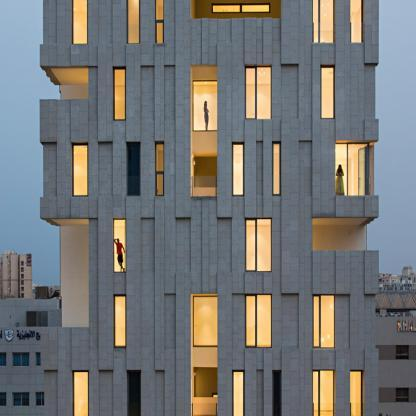Balcony: (191, 18, 281, 44), (313, 250, 379, 274), (40, 100, 88, 126), (336, 174, 379, 195), (191, 177, 217, 197), (313, 23, 334, 43), (191, 403, 217, 416), (313, 402, 335, 415), (351, 23, 364, 43), (350, 403, 363, 415)
Building Outline: (0, 0, 379, 416)
Deco: (1, 330, 41, 341)
Facade: (1, 2, 380, 415)
Floor Slab: (41, 120, 379, 143), (41, 198, 379, 218), (41, 45, 379, 64), (58, 351, 378, 369), (90, 274, 378, 292)
Window: (335, 143, 369, 195), (246, 219, 272, 272), (246, 295, 272, 348), (245, 67, 271, 119), (193, 297, 218, 347), (193, 81, 217, 131), (313, 295, 334, 348), (313, 371, 334, 415), (313, 1, 334, 42), (193, 366, 218, 397), (73, 145, 88, 196), (72, 0, 88, 43), (321, 67, 334, 119), (73, 372, 88, 416), (128, 145, 140, 197), (114, 220, 126, 272), (232, 144, 244, 196), (114, 296, 126, 347), (115, 69, 126, 120), (127, 0, 140, 43), (350, 371, 362, 416), (128, 372, 140, 416), (212, 4, 270, 13), (350, 0, 362, 42), (233, 372, 244, 416), (272, 142, 281, 195), (156, 144, 164, 196), (155, 0, 163, 42), (274, 372, 281, 416), (13, 352, 30, 367), (13, 394, 29, 408), (36, 392, 44, 406), (1, 353, 7, 367), (0, 392, 6, 406), (36, 352, 41, 366)
